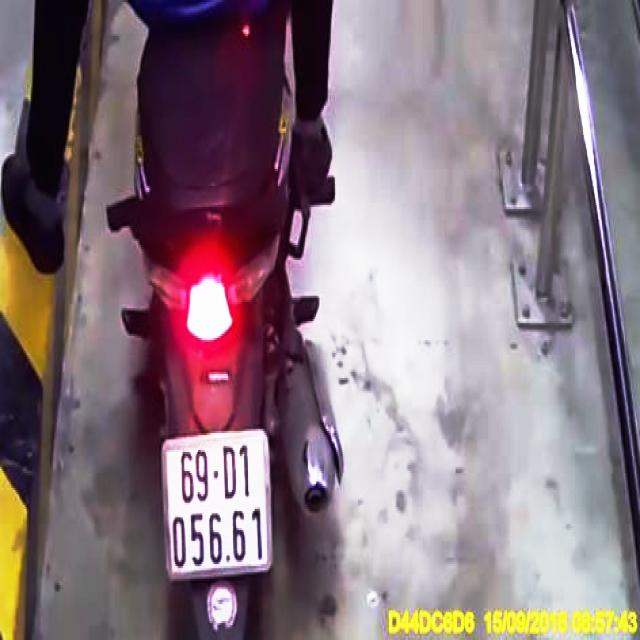license_plate: (161, 429, 277, 585)
